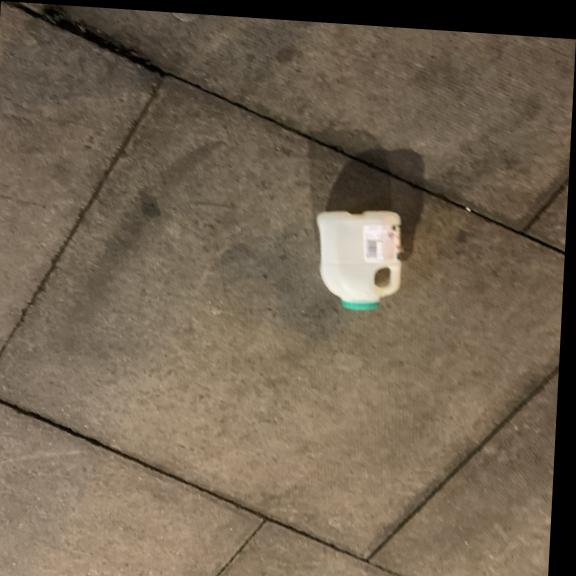Plastik: (301, 200, 411, 317)
